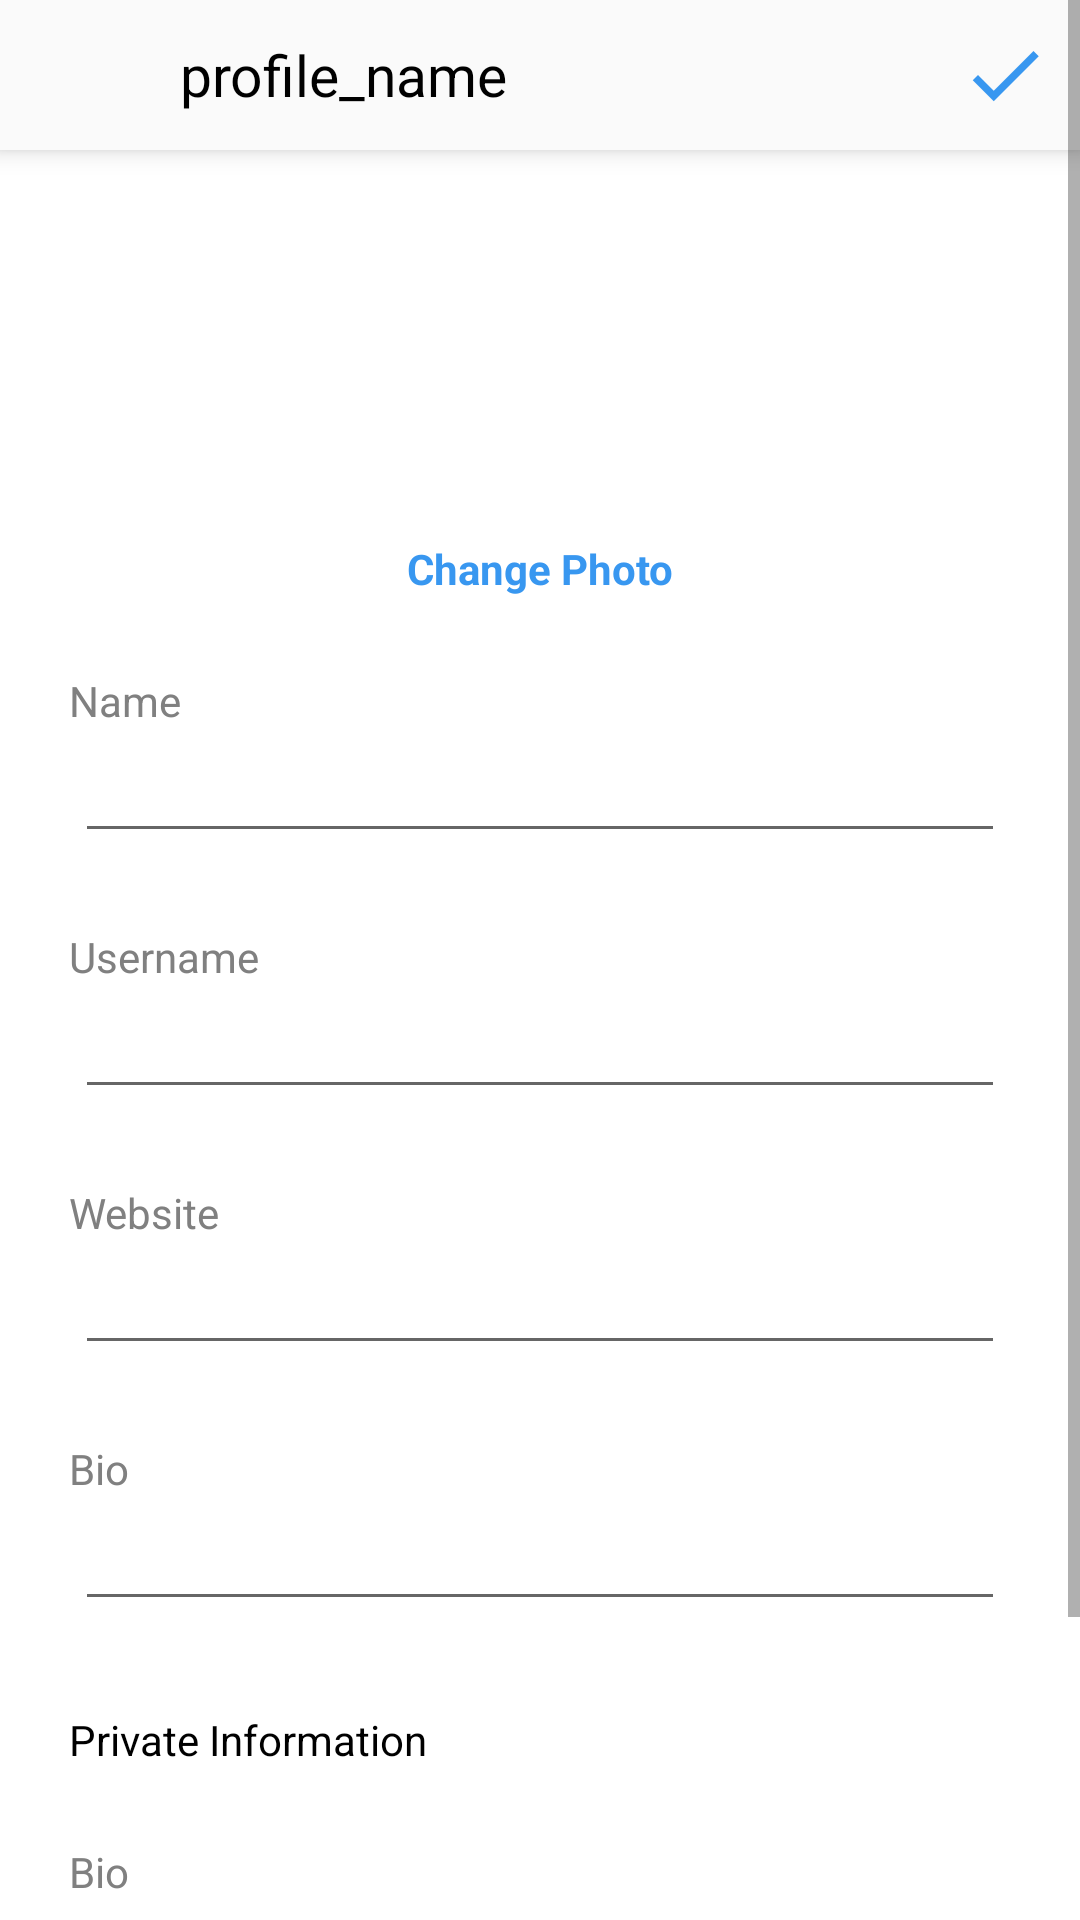

Named icons in this screenshot (1080×1920) and their centers, [x,y]:
done: [1026,75]
